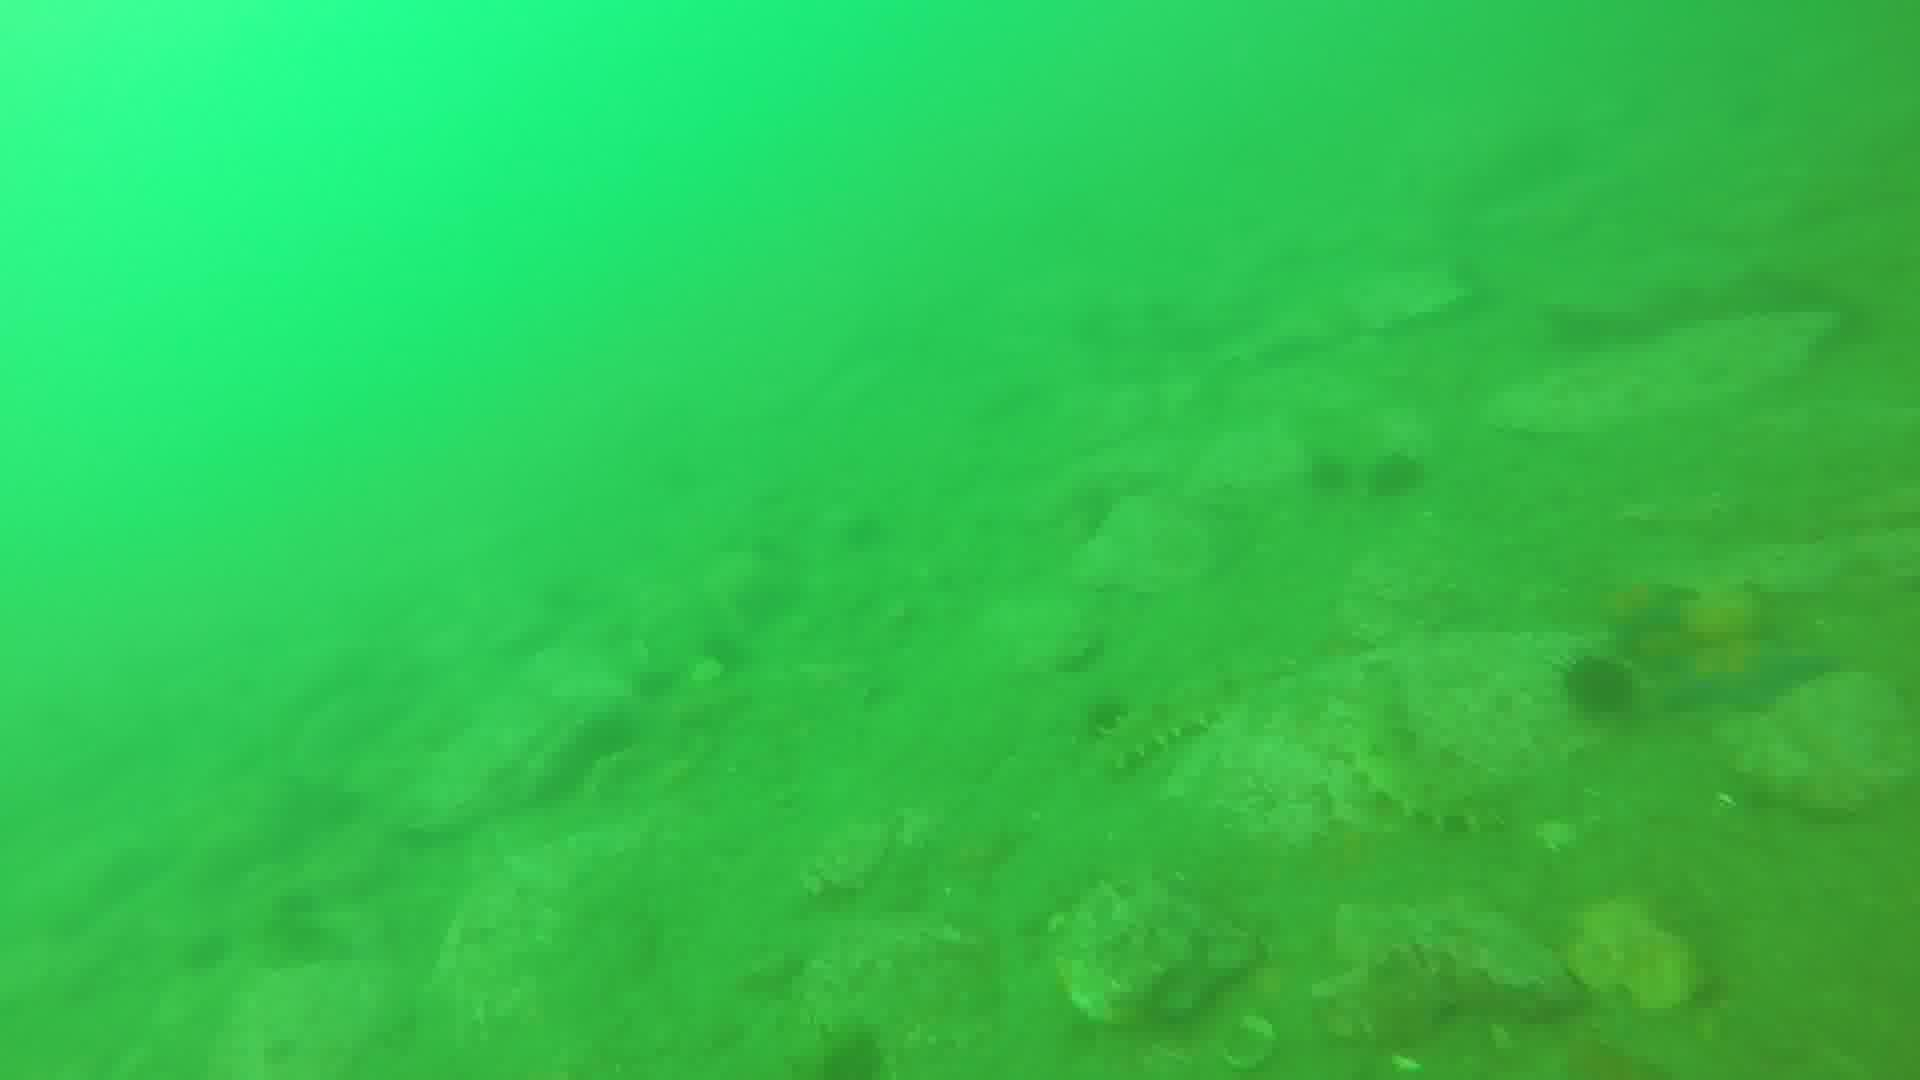echinus: (1565, 647, 1643, 719), (1373, 450, 1427, 495), (1308, 463, 1353, 497)
holothurian: (1356, 690, 1505, 833), (1106, 676, 1242, 771)
starfish: (1665, 630, 1840, 713)
